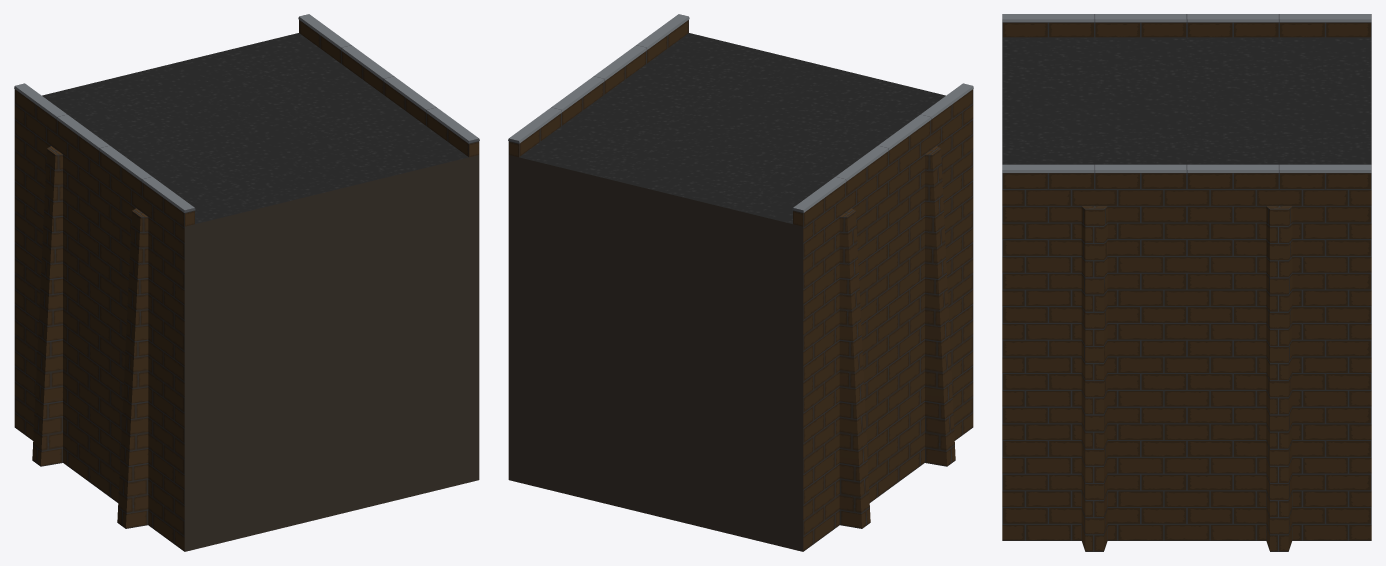
File: SW_ENV_WalledStraight_DoubleTrack_10m.fbx
3 renders of one model, left to right at view 1: azimuth 30°, elevation 25°; view 2: azimuth 150°, elevation 25°; view 3: azimuth 270°, elevation 25°, orthographic. The views are drawn at different scales.
Visible parts, largest first — view 1: SW_ENV_WalledStraight_DoubleTrack_10m; view 2: SW_ENV_WalledStraight_DoubleTrack_10m; view 3: SW_ENV_WalledStraight_DoubleTrack_10m.
Part boxes in pixels (x1,y1,x2,y2): SW_ENV_WalledStraight_DoubleTrack_10m: (14,14,479,551); SW_ENV_WalledStraight_DoubleTrack_10m: (508,14,973,551); SW_ENV_WalledStraight_DoubleTrack_10m: (1002,14,1371,551).
Bounding box in the file's own units: 11.4 × 11.08 × 10.
